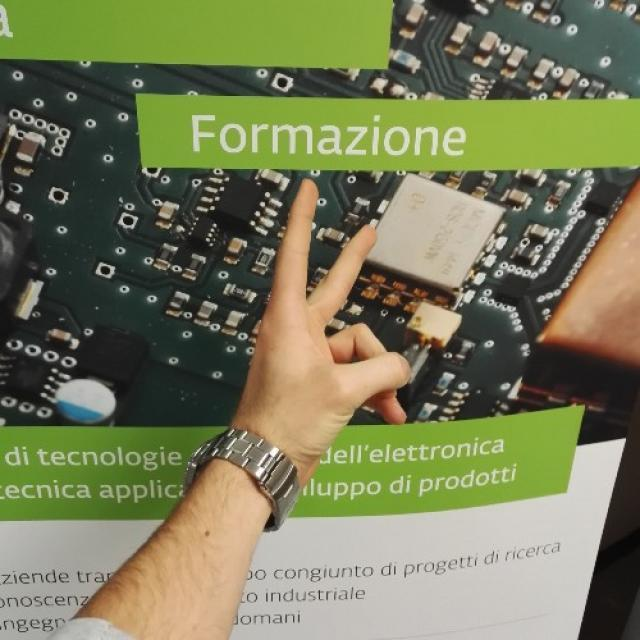scissors: (235, 177, 416, 430)
